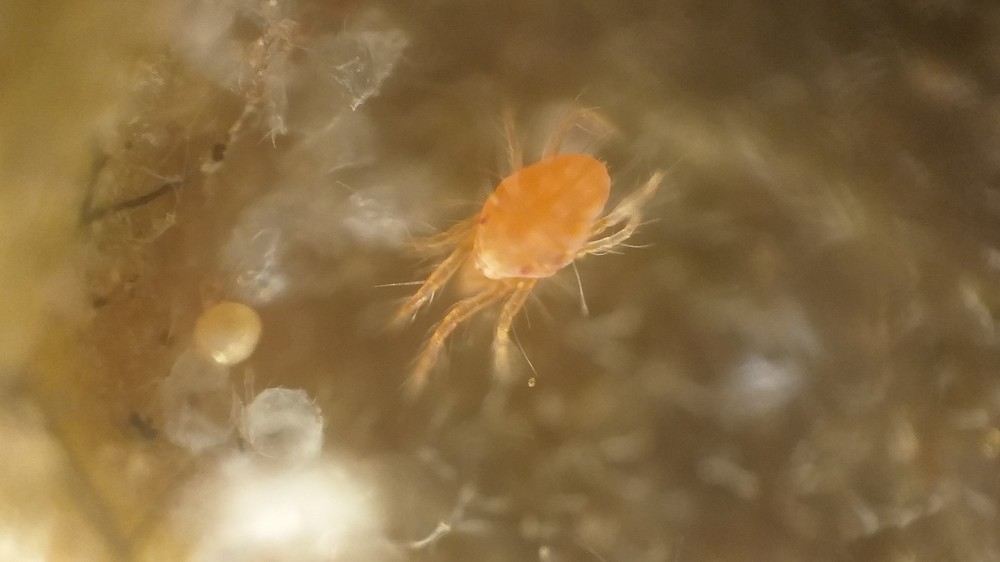Aracnido Rojo: (372, 87, 691, 405)
